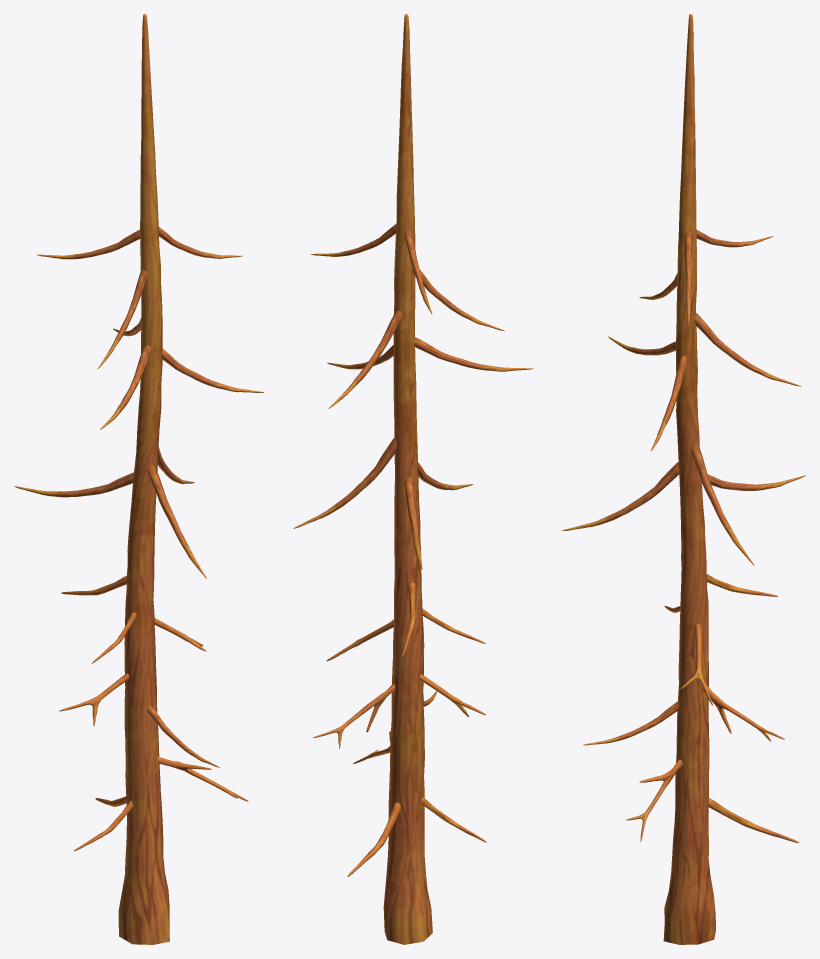
The model's file is tree_3_hb.glb.
The picture shows the model from 3 angles, left to right: view 1: azimuth 30°, elevation 25°; view 2: azimuth 150°, elevation 25°; view 3: azimuth 270°, elevation 25°; orthographic projection.
Visible parts, largest first — view 1: hit_box3; view 2: hit_box3; view 3: hit_box3.
Boxes of the visible parts, x1,y1,x2,y2 form: hit_box3: (14, 14, 264, 944); hit_box3: (293, 14, 533, 944); hit_box3: (562, 14, 805, 944).
Bounding box in the file's own units: 3.03 × 14.33 × 3.44.
Materials: 1 (1 with a texture image).
